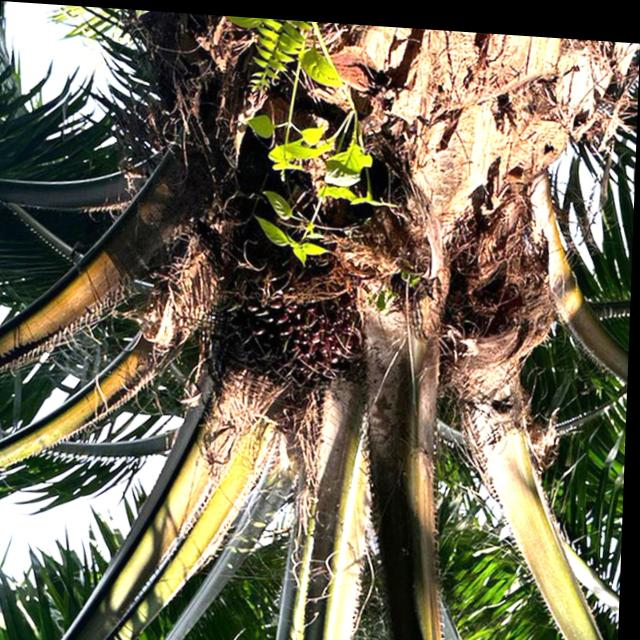unripe: (201, 249, 375, 395)
